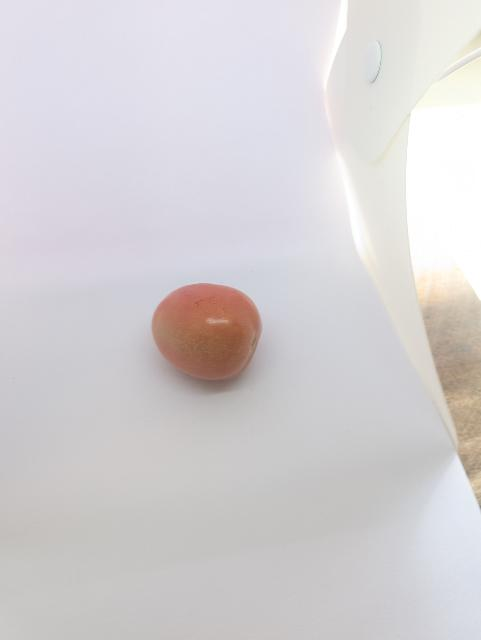turning: (146, 277, 267, 382)
